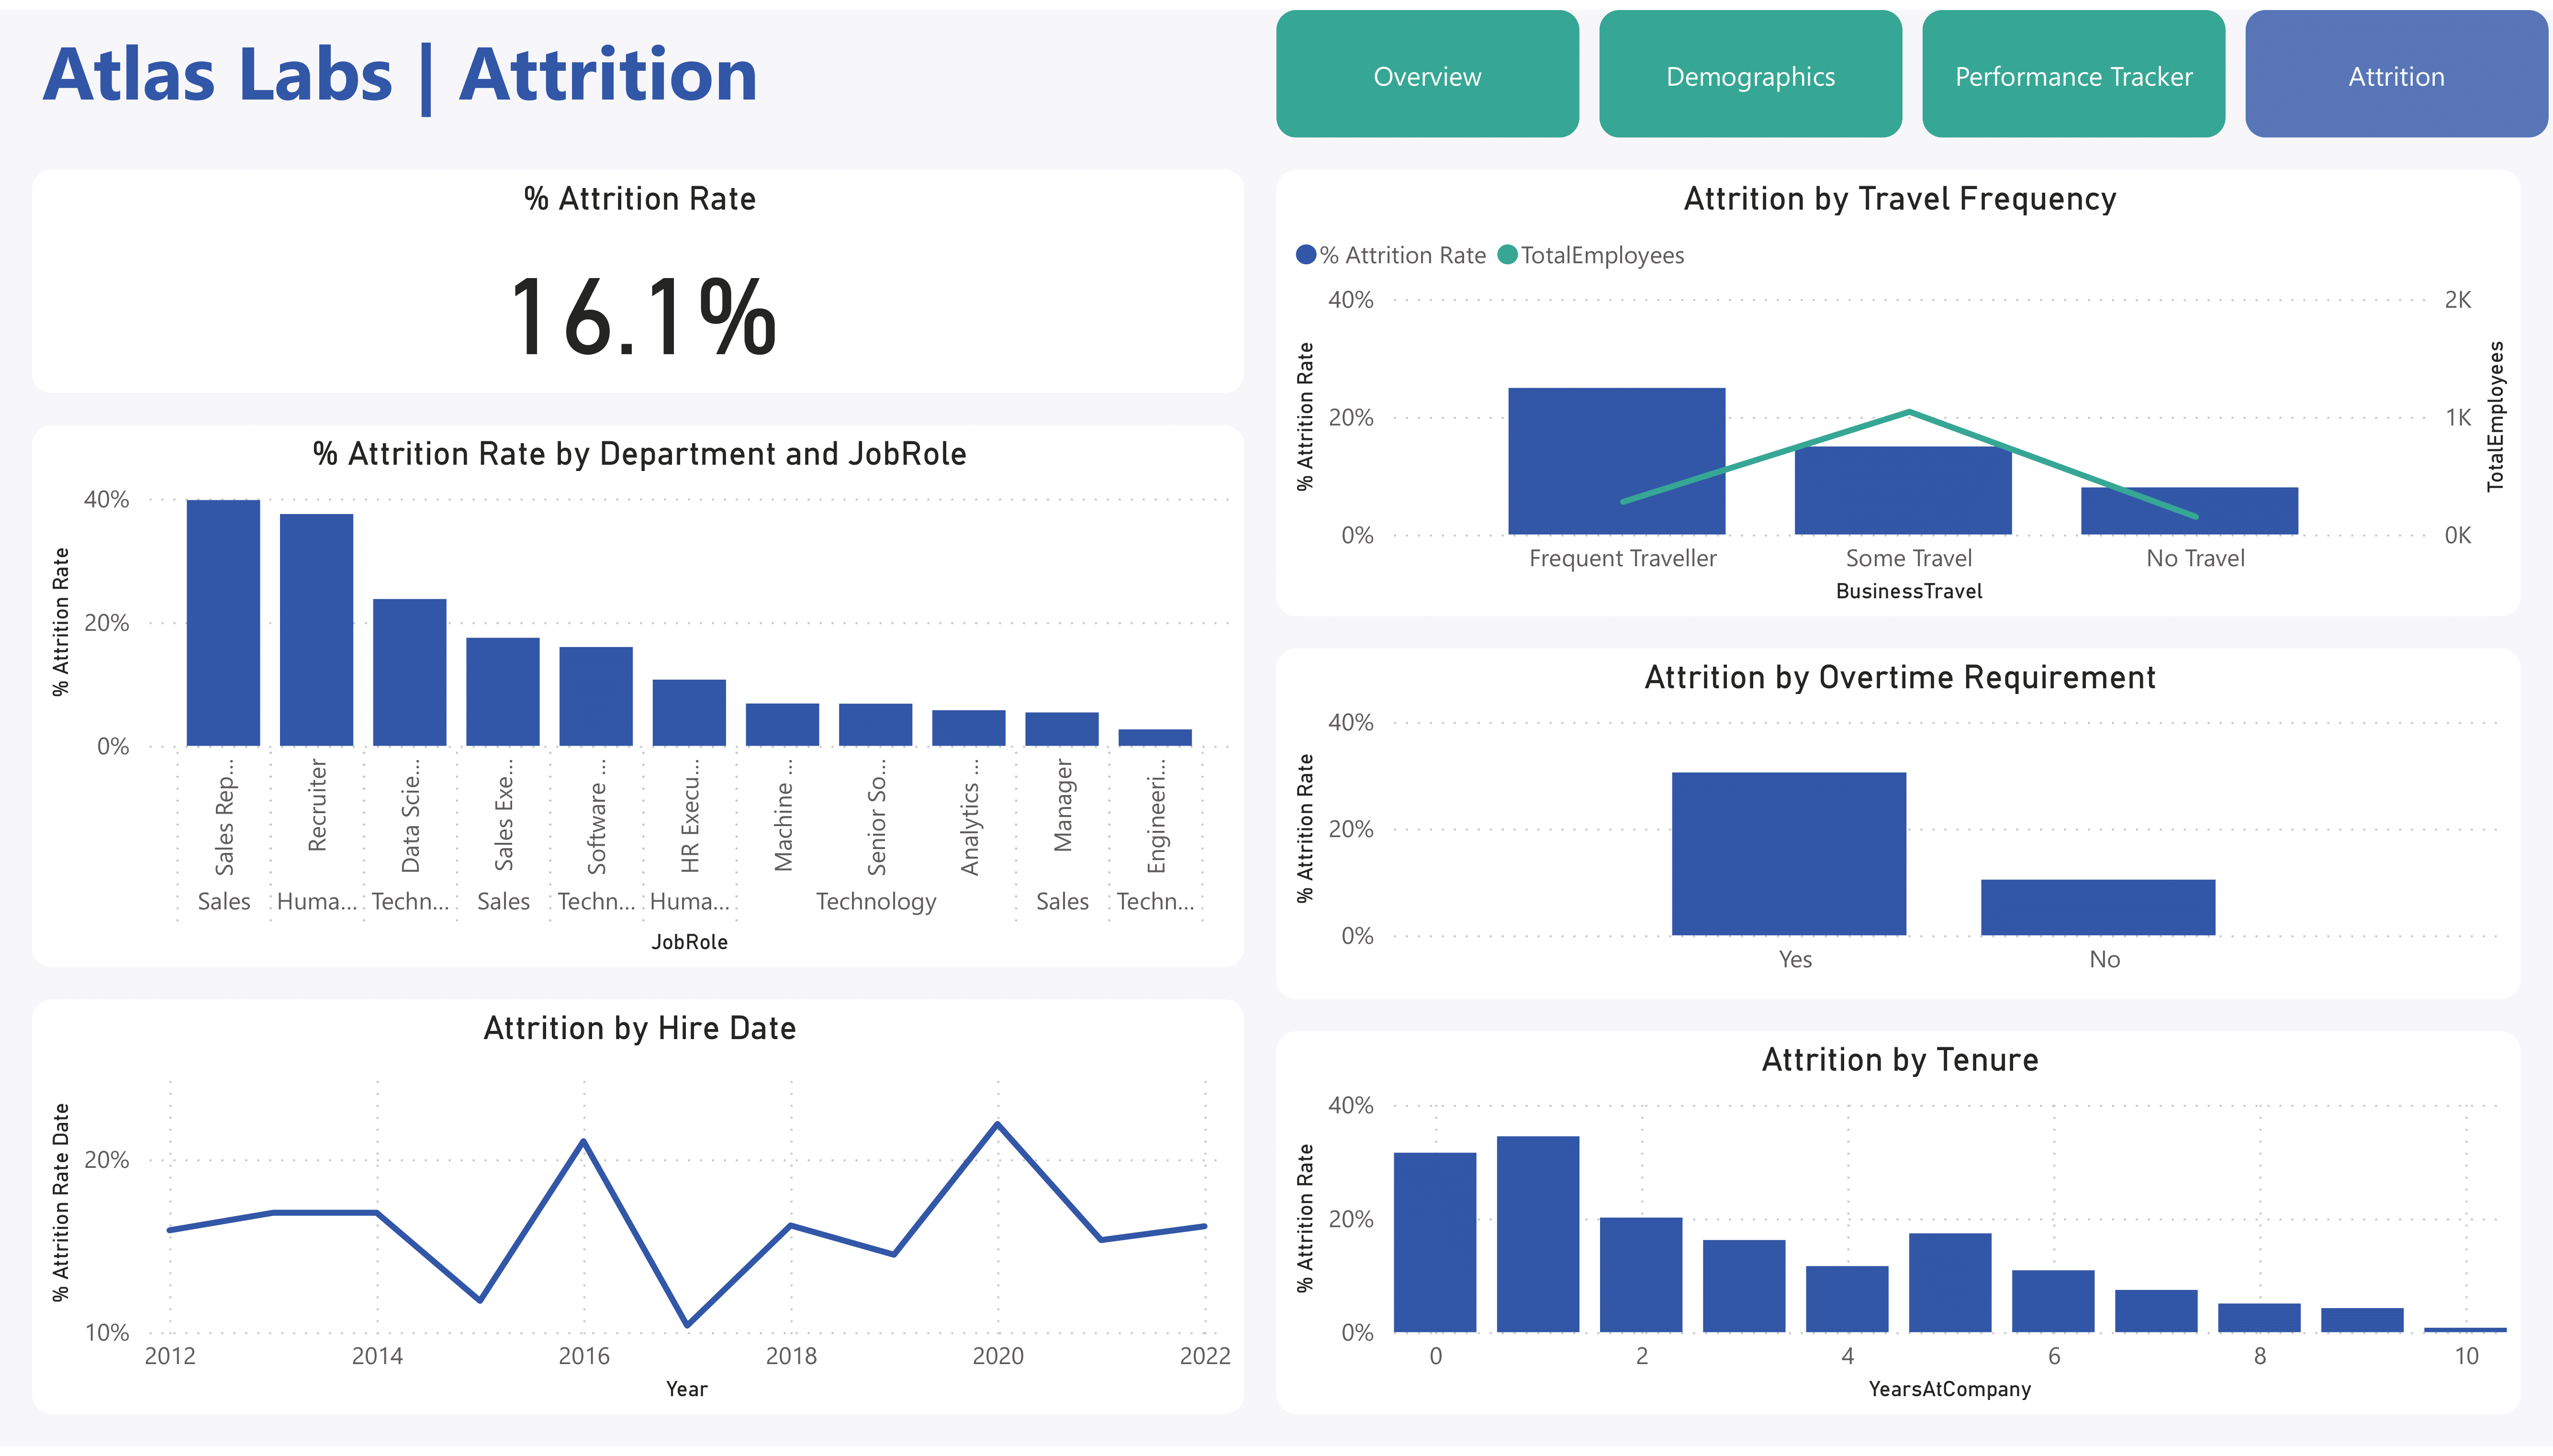

The dashboard page shown, as its layout file describes it:
{"tool":"powerbi","page":{"name":"Attrition","canvas":[1280,720],"ordinal":3},"visuals":[{"type":"card","title":"% Attrition Rate","fields":{"Values":["_Measures.% Attrition Rate"]},"box":[16,80,608,112],"z":0},{"type":"columnChart","fields":{"Category":["DimEmployee.Department","DimEmployee.JobRole"],"Y":["_Measures.% Attrition Rate"]},"box":[16,208,608,272],"z":1000},{"type":"lineChart","title":"Attrition by Hire Date","fields":{"Y":["_Measures.% Attrition Rate Date"],"Category":["DimDate.Date.Variation.Date Hierarchy.Year","DimDate.Date.Variation.Date Hierarchy.Quarter","DimDate.Date.Variation.Date Hierarchy.Month","DimDate.Date.Variation.Date Hierarchy.Day"]},"box":[16,496,608,208],"z":2000},{"type":"lineStackedColumnComboChart","title":"Attrition by Travel Frequency","fields":{"Y":["_Measures.% Attrition Rate"],"Category":["DimEmployee.BusinessTravel"],"Y2":["_Measures.TotalEmployees"]},"box":[640,80,624,224],"z":3000},{"type":"columnChart","title":"Attrition by Overtime Requirement","fields":{"Category":["DimEmployee.OverTime"],"Y":["_Measures.% Attrition Rate"]},"box":[640,320,624,176],"z":4000},{"type":"columnChart","title":"Attrition by Tenure","fields":{"Category":["DimEmployee.YearsAtCompany"],"Y":["_Measures.% Attrition Rate"]},"box":[640,512,624,192],"z":5000},{"type":"pageNavigator","box":[640,0,640,64],"z":6000},{"type":"textbox","box":[15.9,0,537.2,63.6],"z":7000}]}

Visuals, with their boxes in screenshot pixels (x1, y1, x2, y2), scaled from the page's 1280x720 canvas onto the 2553x1456 screenshot:
"% Attrition Rate" card: {"x1": 32, "y1": 162, "x2": 1244, "y2": 388}
columnChart - DimEmployee.Department x DimEmployee.JobRole: {"x1": 32, "y1": 421, "x2": 1244, "y2": 971}
"Attrition by Hire Date" lineChart: {"x1": 32, "y1": 1003, "x2": 1244, "y2": 1423}
"Attrition by Travel Frequency" lineStackedColumnComboChart: {"x1": 1276, "y1": 162, "x2": 2521, "y2": 615}
"Attrition by Overtime Requirement" columnChart: {"x1": 1276, "y1": 647, "x2": 2521, "y2": 1003}
"Attrition by Tenure" columnChart: {"x1": 1276, "y1": 1035, "x2": 2521, "y2": 1423}
pageNavigator: {"x1": 1276, "y1": 0, "x2": 2553, "y2": 129}
textbox: {"x1": 32, "y1": 0, "x2": 1103, "y2": 129}
